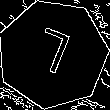L_S: (29, 25, 77, 84)
